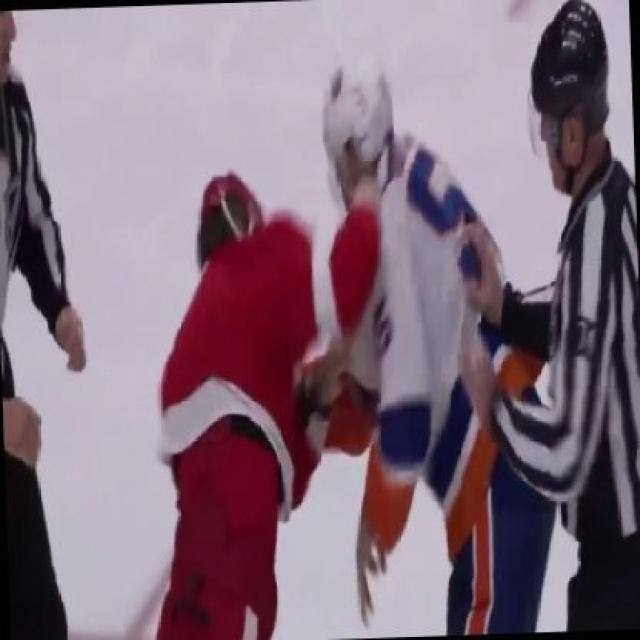fight: (123, 54, 505, 638)
non-fight: (434, 0, 638, 629)
